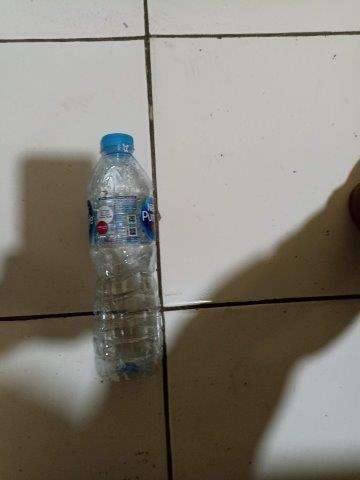botolplastik: (86, 132, 165, 384)
